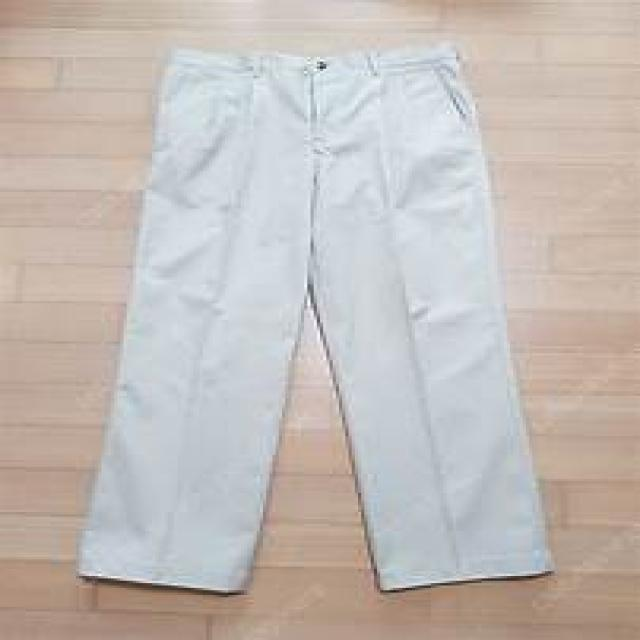long-pants: (78, 46, 557, 600)
